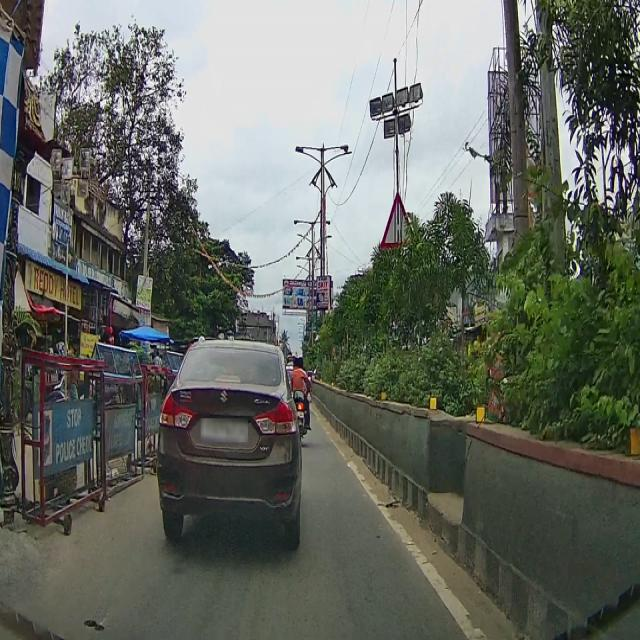gap-in-median: (378, 184, 414, 253)
